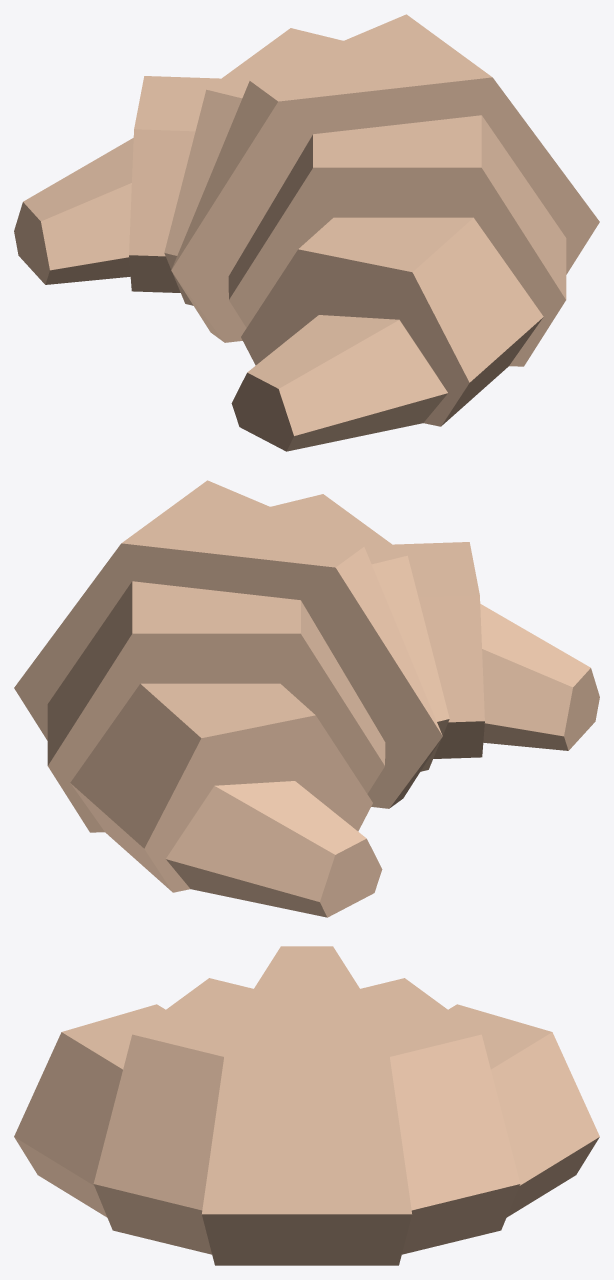
The model's file is croissant.glb.
3 renders of one model, top to bottom at view 1: azimuth 30°, elevation 25°; view 2: azimuth 150°, elevation 25°; view 3: azimuth 270°, elevation 25°, orthographic. The views are drawn at different scales.
Visible parts, largest first — view 1: croissant; view 2: croissant; view 3: croissant.
Boxes of the visible parts, <box> form: croissant: <box>14,14,599,451</box>; croissant: <box>14,480,599,917</box>; croissant: <box>14,946,599,1265</box>.
Size of the model in its own units: 0.346 by 0.1937 by 0.4777.
